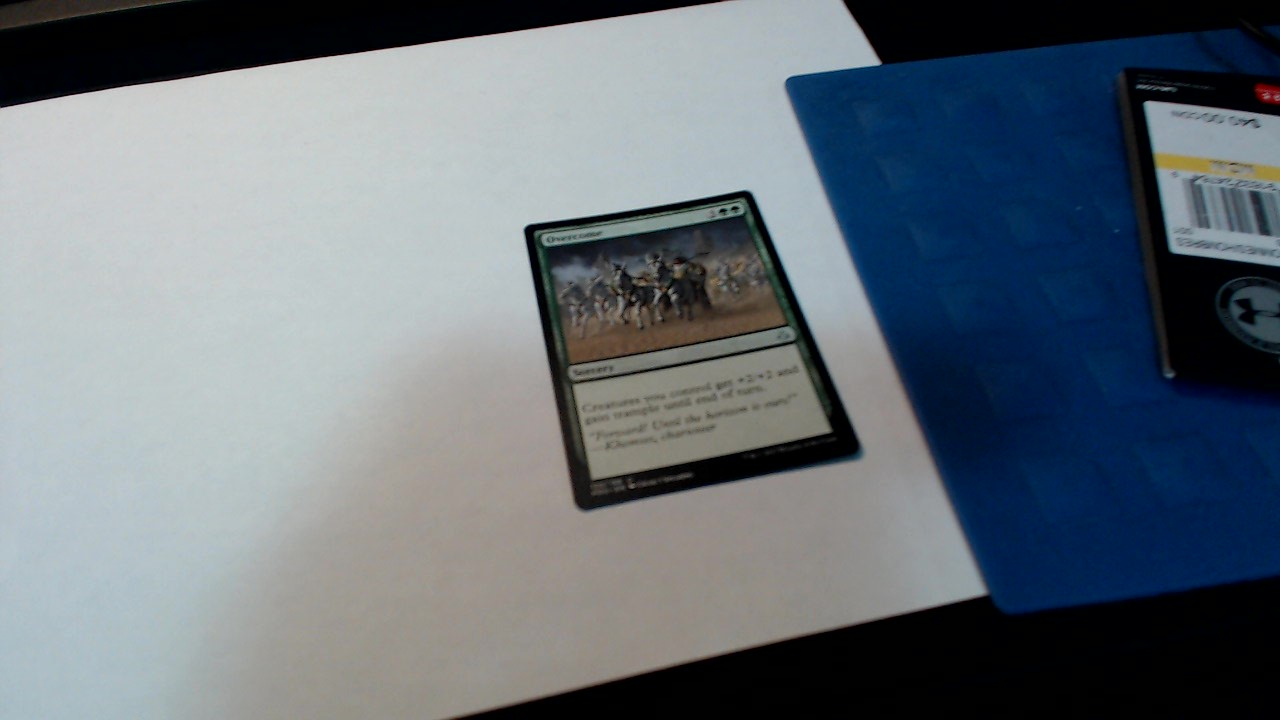MTG Card: (509, 182, 893, 522)
